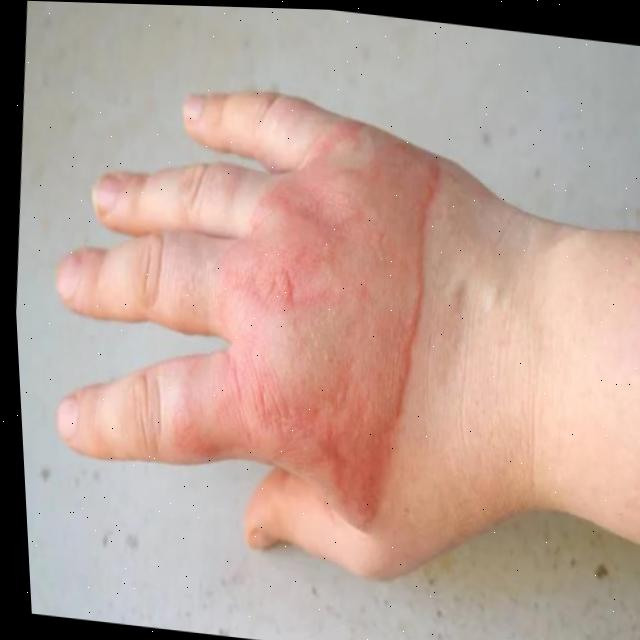Eczema: (193, 160, 459, 477)
